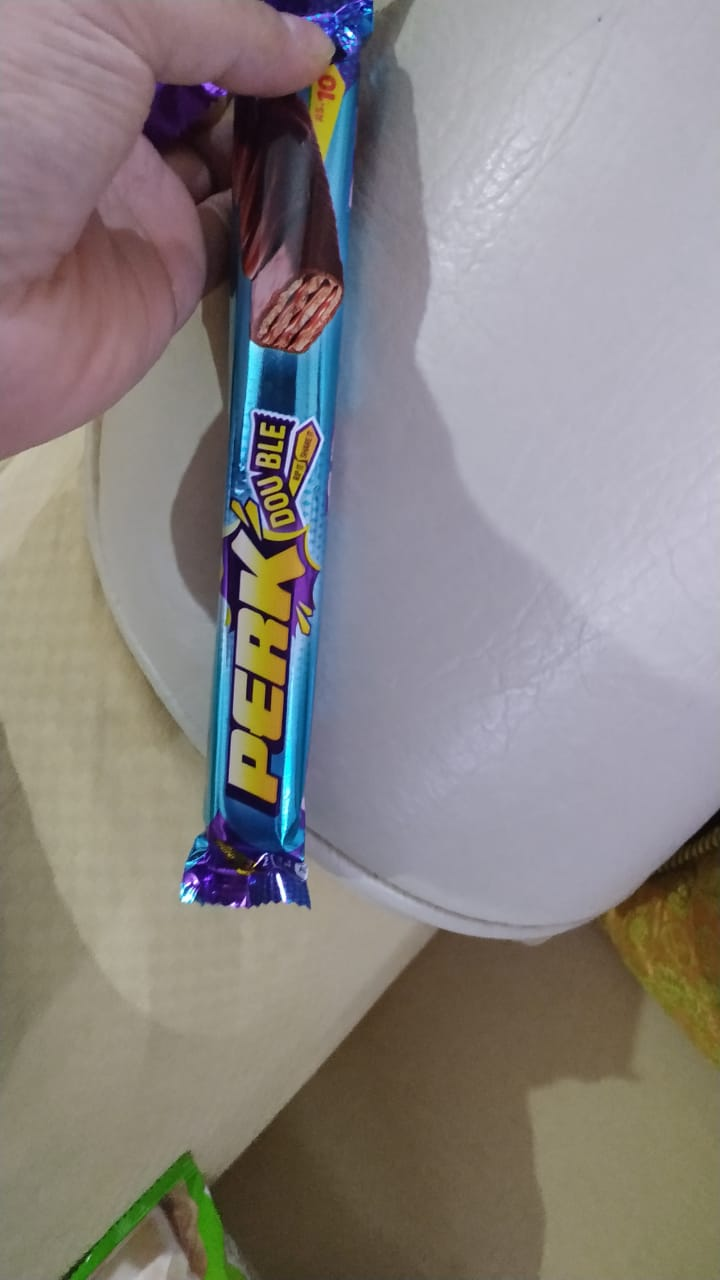perk: (176, 1, 399, 992)
